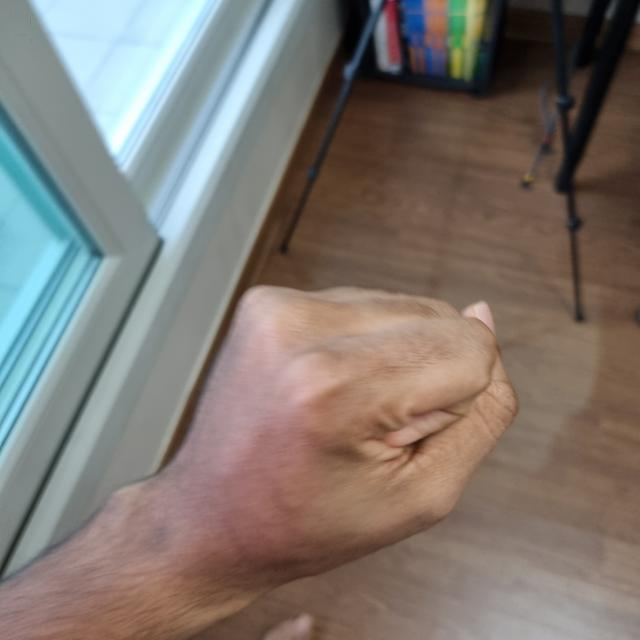Rock: (186, 290, 512, 559)
